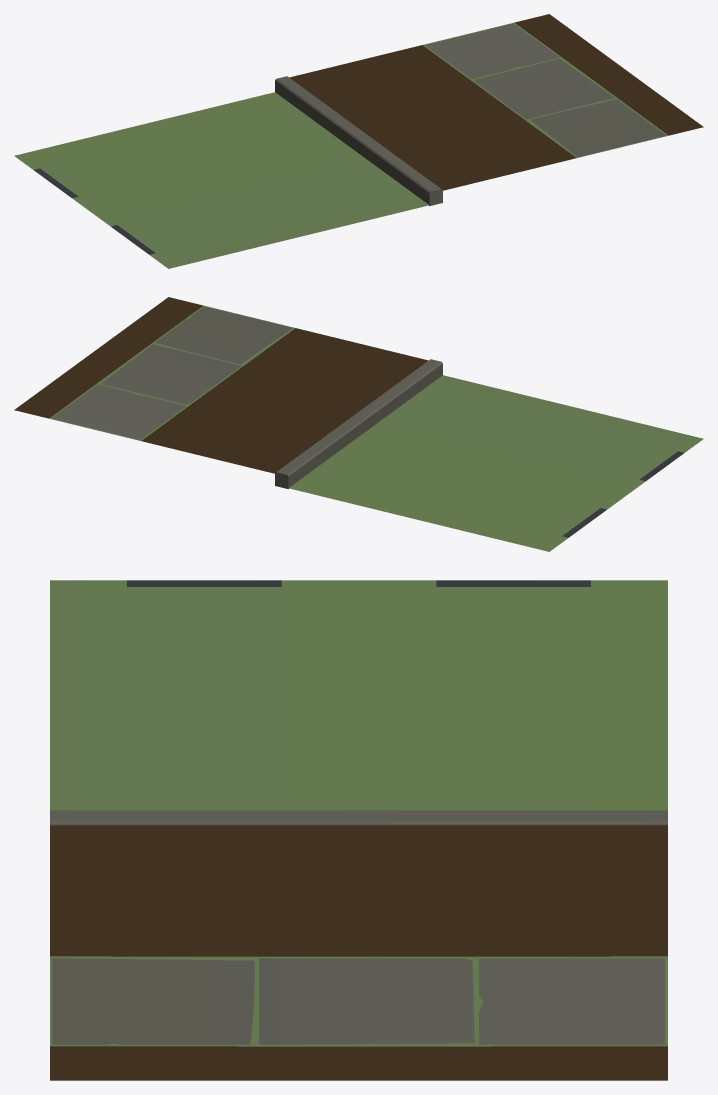
The model's file is Road_38.fbx.
3 renders of one model, top to bottom at view 1: azimuth 30°, elevation 25°; view 2: azimuth 150°, elevation 25°; view 3: azimuth 270°, elevation 25°, orthographic. The views are drawn at different scales.
Parts seen in each view (by area): view 1: Road_38; view 2: Road_38; view 3: Road_38.
Part boxes in pixels (x1=…): Road_38: x1=14, y1=14, x2=703, y2=268; Road_38: x1=14, y1=297, x2=703, y2=551; Road_38: x1=50, y1=580, x2=667, y2=1080.
Bounding box in the file's own units: 6 × 0.15 × 3.
